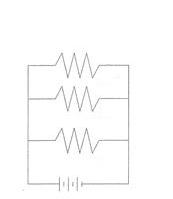resistor: (39, 47, 110, 80), (46, 82, 105, 114), (44, 125, 104, 154)
